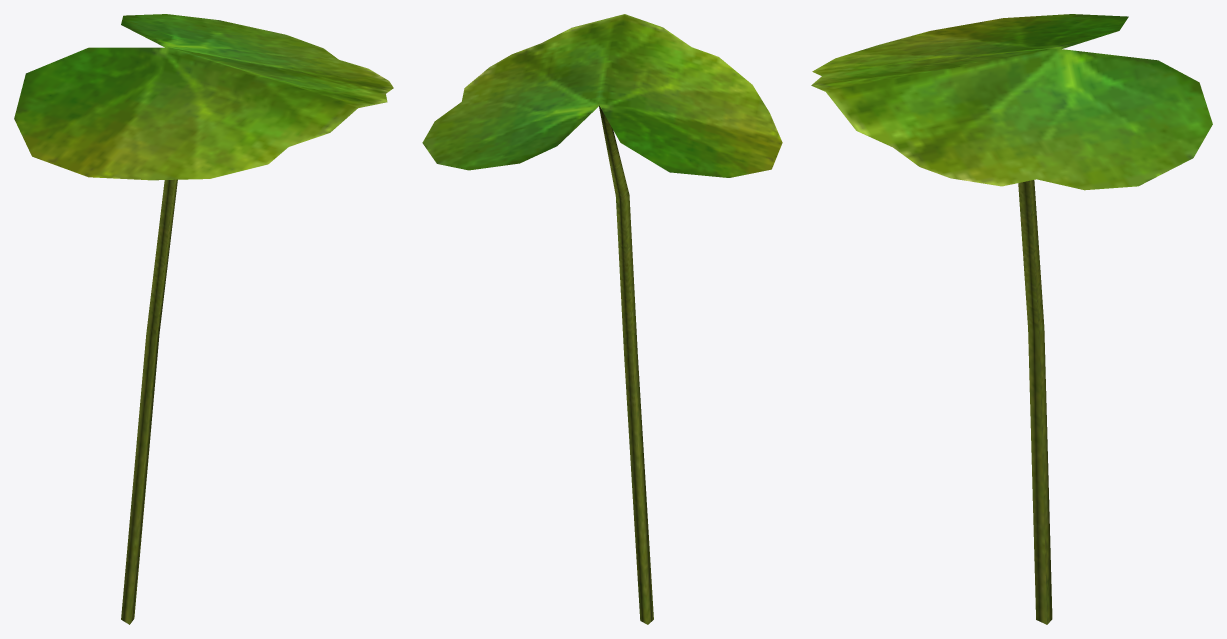
File: lotusflower_08.fbx
The picture shows the model from 3 angles, left to right: view 1: azimuth 30°, elevation 25°; view 2: azimuth 150°, elevation 25°; view 3: azimuth 270°, elevation 25°; orthographic projection. The views are drawn at different scales.
Parts seen in each view (by area): view 1: lotusflower_08; view 2: lotusflower_08; view 3: lotusflower_08.
Boxes of the visible parts, x1,y1,x2,y2 form: lotusflower_08: (14, 14, 393, 624); lotusflower_08: (422, 14, 782, 624); lotusflower_08: (811, 14, 1212, 624).
Bounding box in the file's own units: 0.801 × 1.27 × 0.776.
